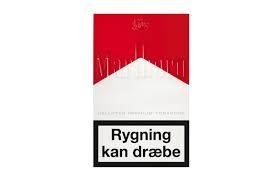marlboro: (94, 14, 188, 167)
